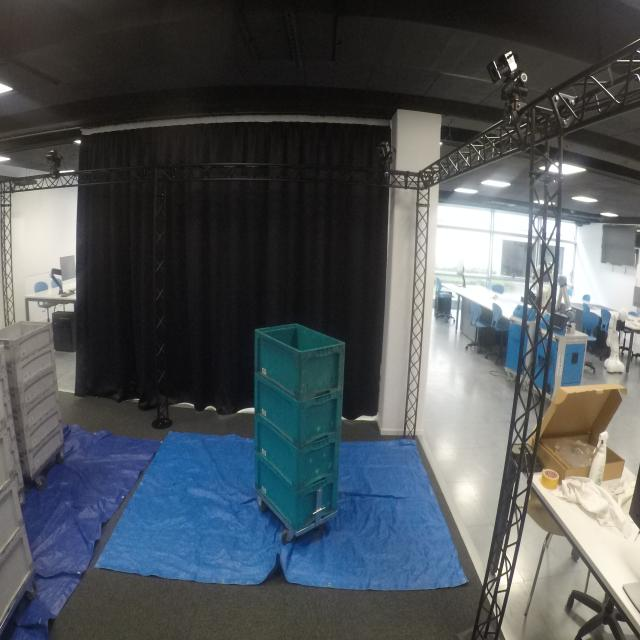BoxB4: (249, 318, 344, 398), (255, 460, 342, 528), (256, 380, 346, 445), (258, 417, 342, 480)
